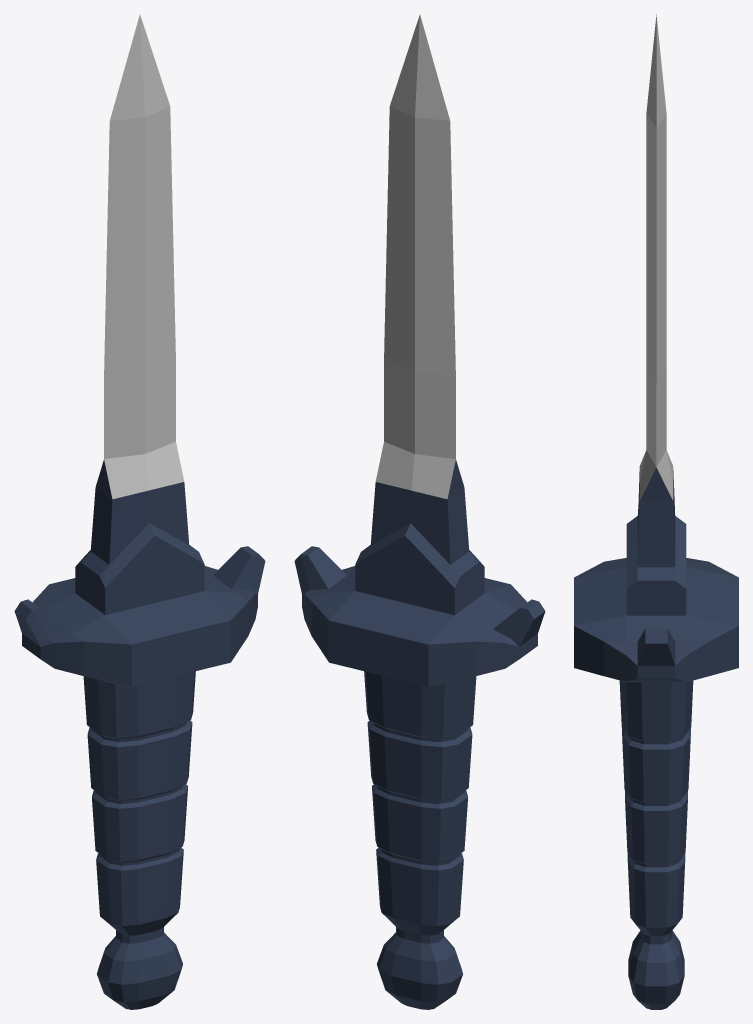
File: Dagger.obj
3 renders of one model, left to right at view 1: azimuth 30°, elevation 25°; view 2: azimuth 150°, elevation 25°; view 3: azimuth 270°, elevation 25°, orthographic.
Parts seen in each view (by area): view 1: Dagger_Cube.012; view 2: Dagger_Cube.012; view 3: Dagger_Cube.012.
Part boxes in pixels (<box>): Dagger_Cube.012: <box>14,15,265,1009</box>; Dagger_Cube.012: <box>294,15,545,1009</box>; Dagger_Cube.012: <box>574,14,738,1009</box>.
Bounding box in the file's own units: 3.69 × 14.56 × 2.2.
